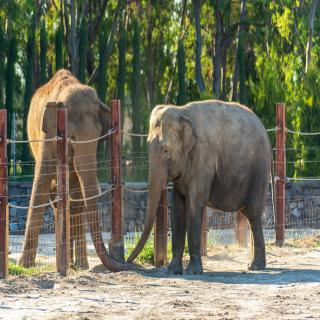Elephant: (126, 95, 282, 281), (13, 66, 128, 281)
